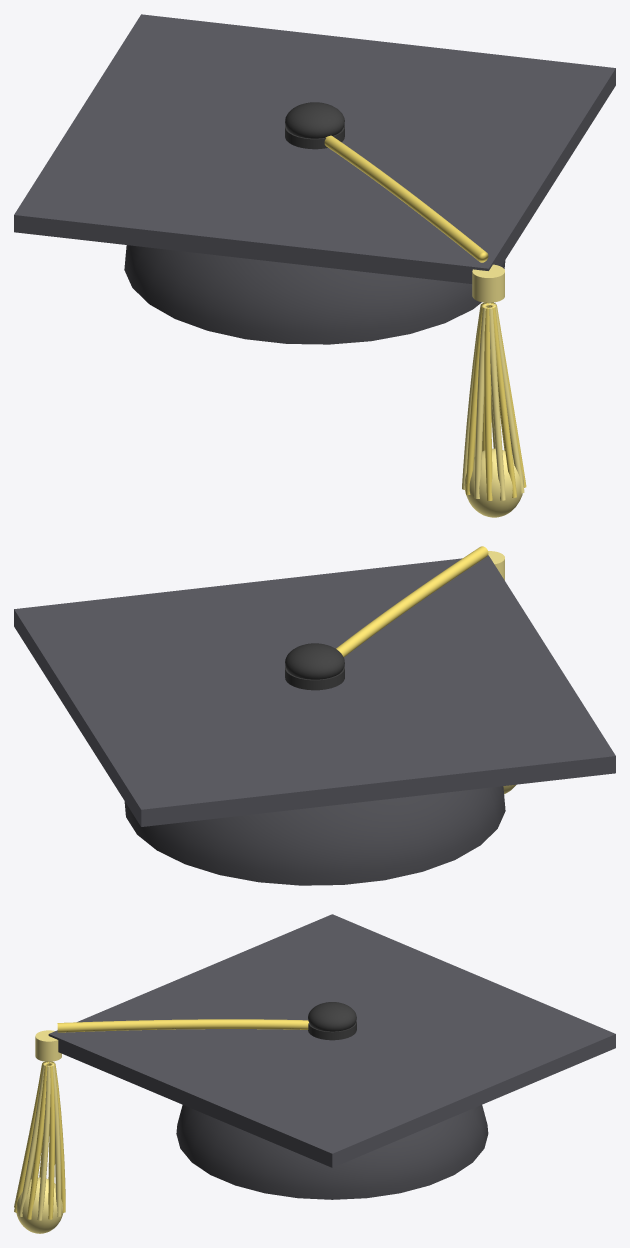
Rendered from graduation_cap.glb.
The picture shows the model from 3 angles, top to bottom: view 1: azimuth 30°, elevation 25°; view 2: azimuth 150°, elevation 25°; view 3: azimuth 270°, elevation 25°; orthographic projection. The views are drawn at different scales.
Bounding box in the file's own units: 0.2546 × 0.112 × 0.2702.
